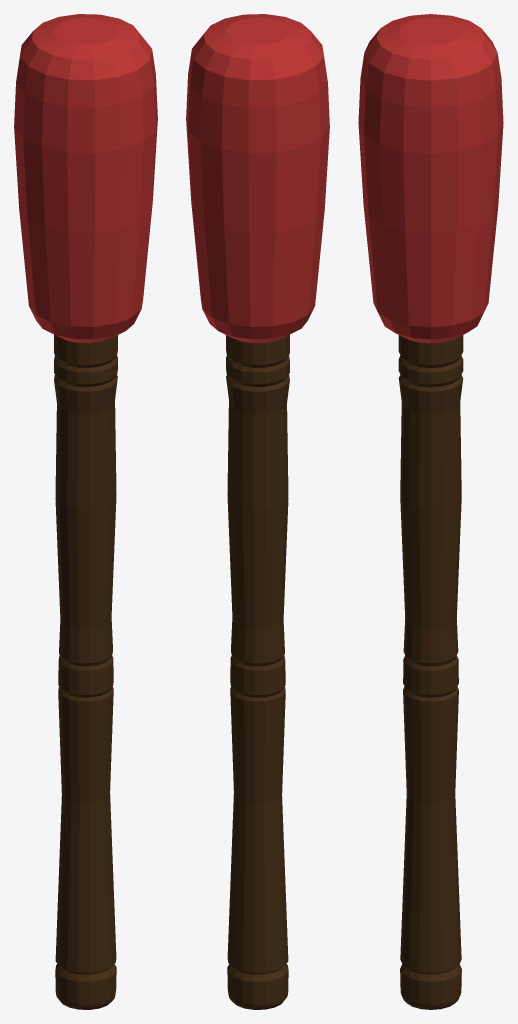
The model's file is pemukul-bonang.fbx.
3 views of the same model, side by side, from view 1: azimuth 30°, elevation 25°; view 2: azimuth 150°, elevation 25°; view 3: azimuth 270°, elevation 25° (orthographic).
Visible parts, largest first — view 1: pemukul bonang.001, pemukul bonang; view 2: pemukul bonang.001, pemukul bonang; view 3: pemukul bonang.001, pemukul bonang.
Part boxes in pixels (x1=…): pemukul bonang.001: x1=14, y1=14, x2=157, y2=343; pemukul bonang: x1=54, y1=334, x2=117, y2=1009; pemukul bonang.001: x1=186, y1=14, x2=329, y2=343; pemukul bonang: x1=226, y1=334, x2=289, y2=1009; pemukul bonang.001: x1=358, y1=14, x2=503, y2=343; pemukul bonang: x1=398, y1=335, x2=463, y2=1009.
Bounding box in the file's own units: 4.5 × 33.16 × 4.5.
